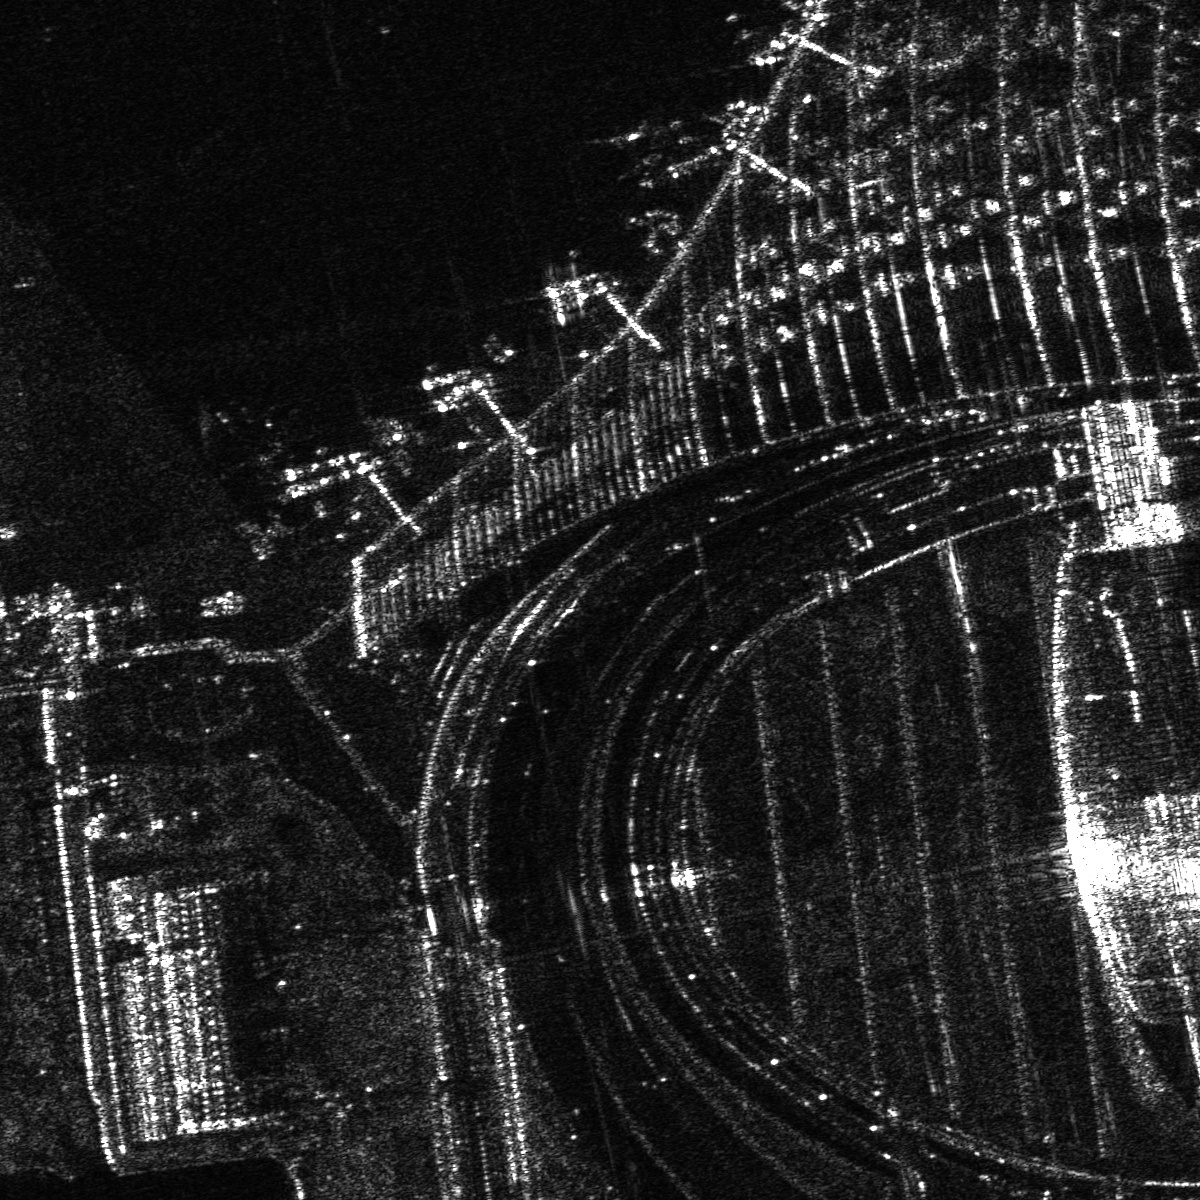A220: (607, 115, 659, 184)
